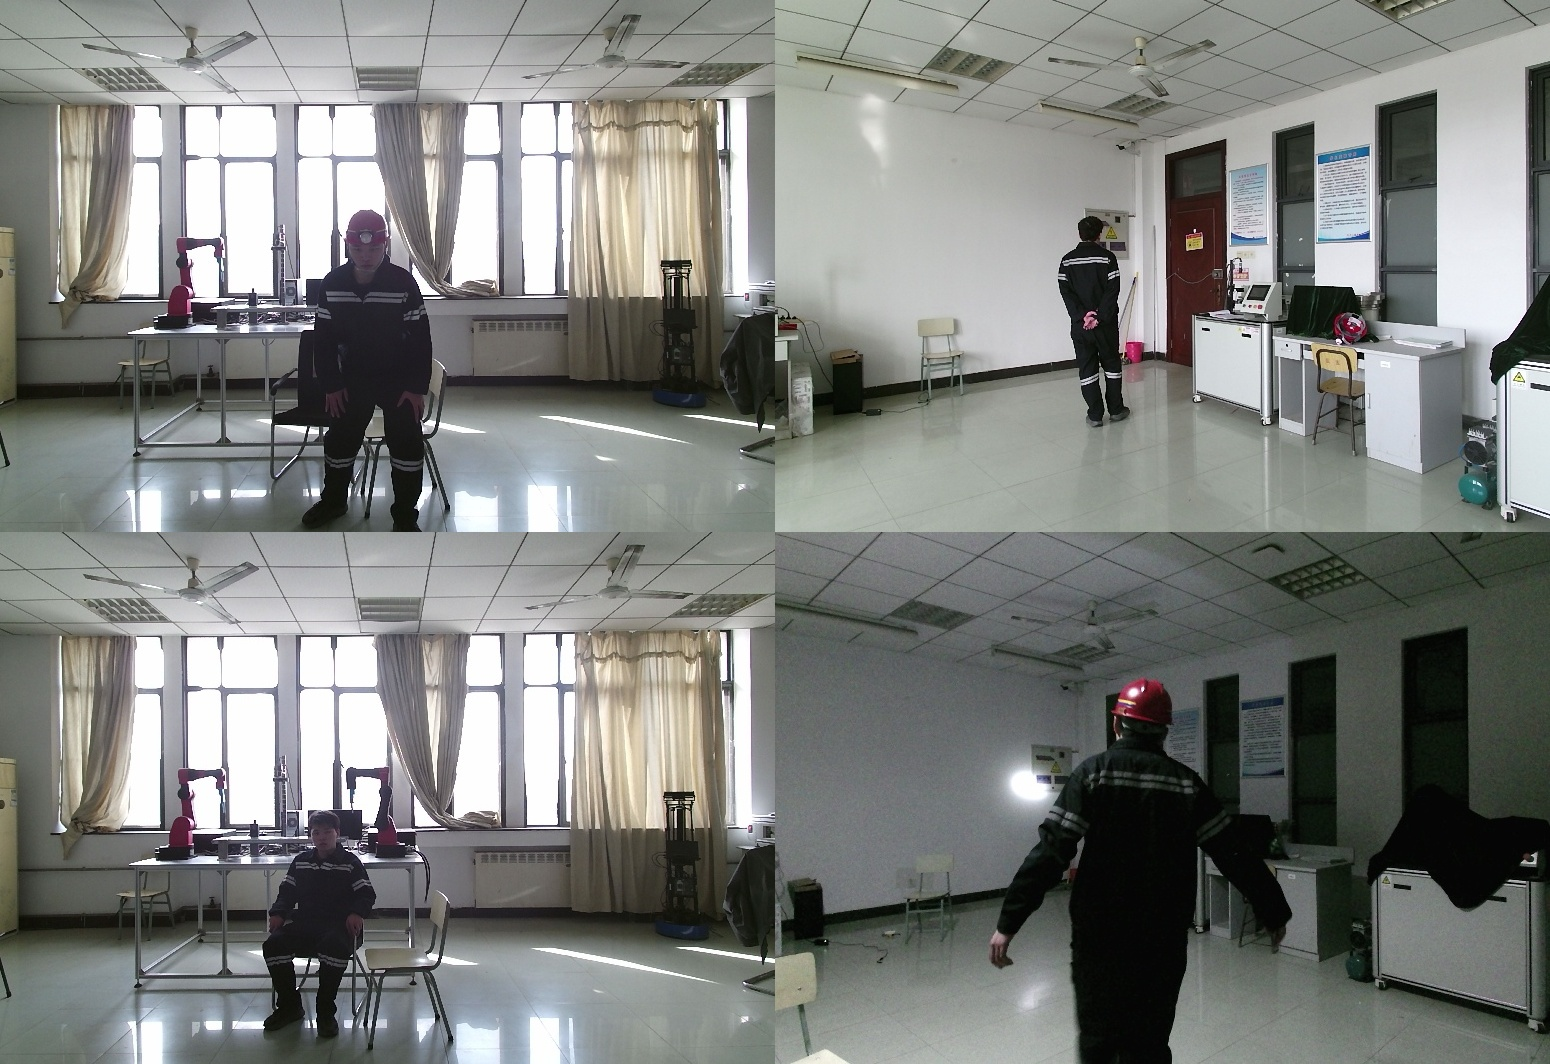person: (997, 676, 1305, 1064), (308, 211, 451, 532), (261, 812, 383, 1030), (1054, 215, 1135, 432)
